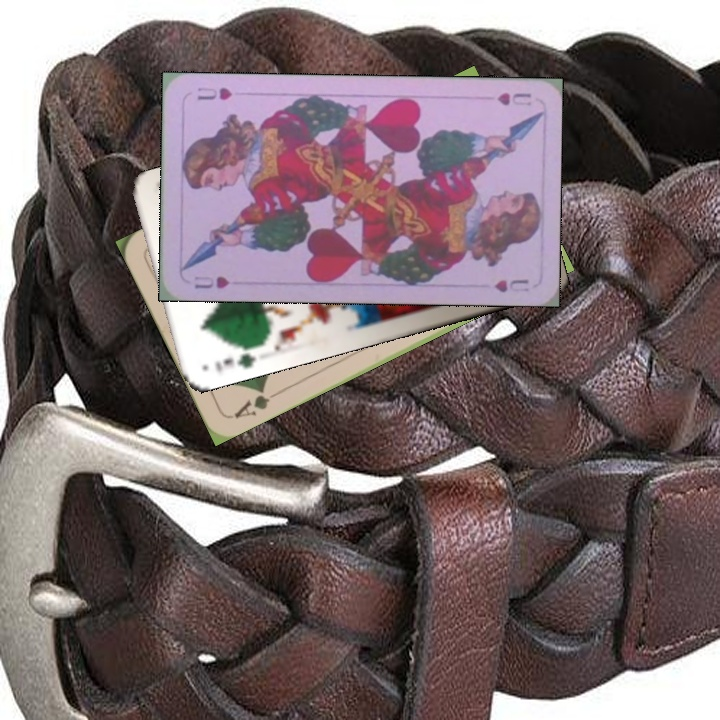GA: (230, 383, 283, 421)
GK: (211, 348, 258, 375)
HU: (493, 88, 534, 109), (190, 272, 232, 292)
